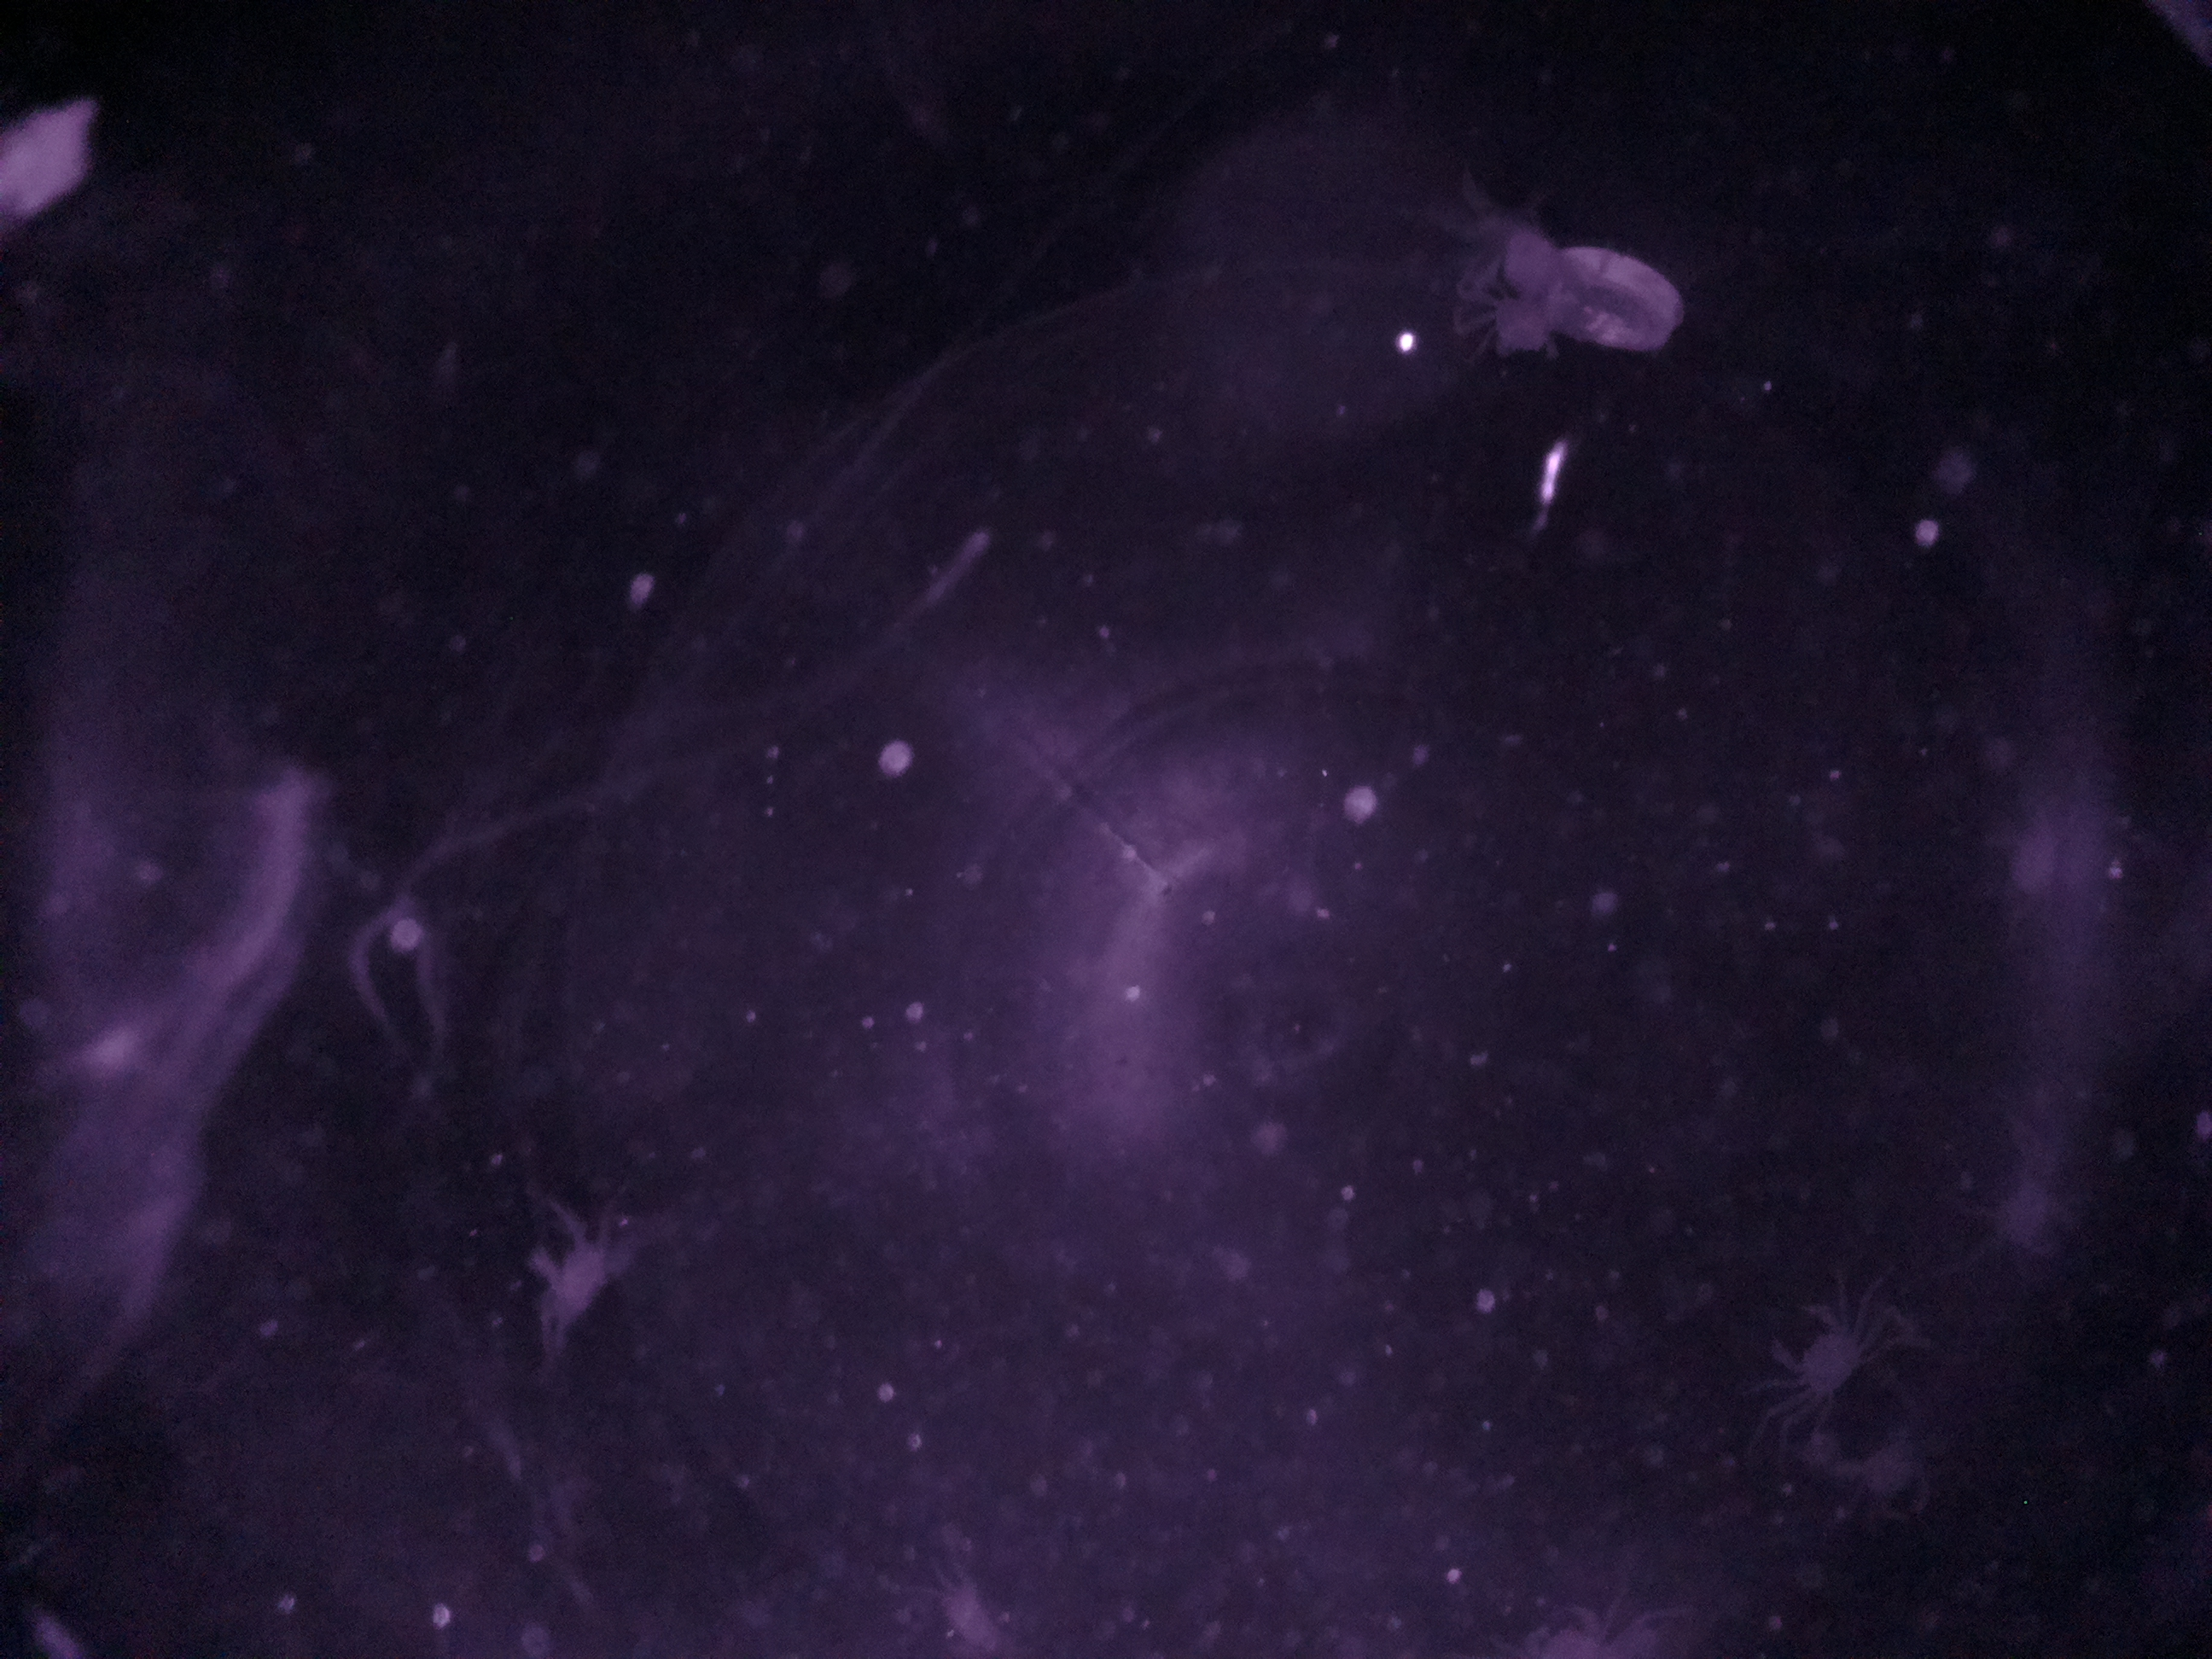Crab: (1756, 1286, 1890, 1431), (1465, 265, 1566, 373)
